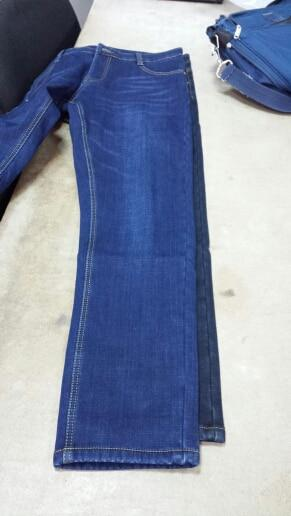jeans: (9, 41, 228, 462)
